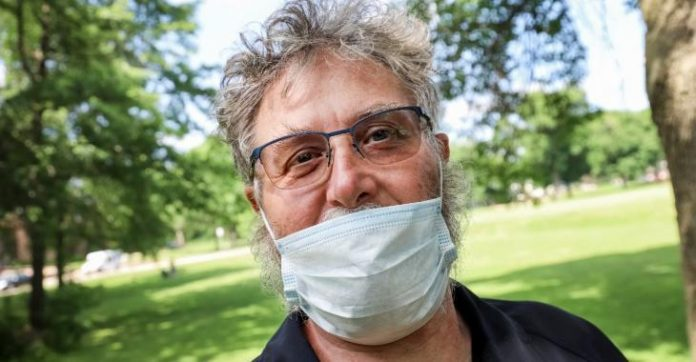with_incorrect_mask: (244, 107, 459, 338)
